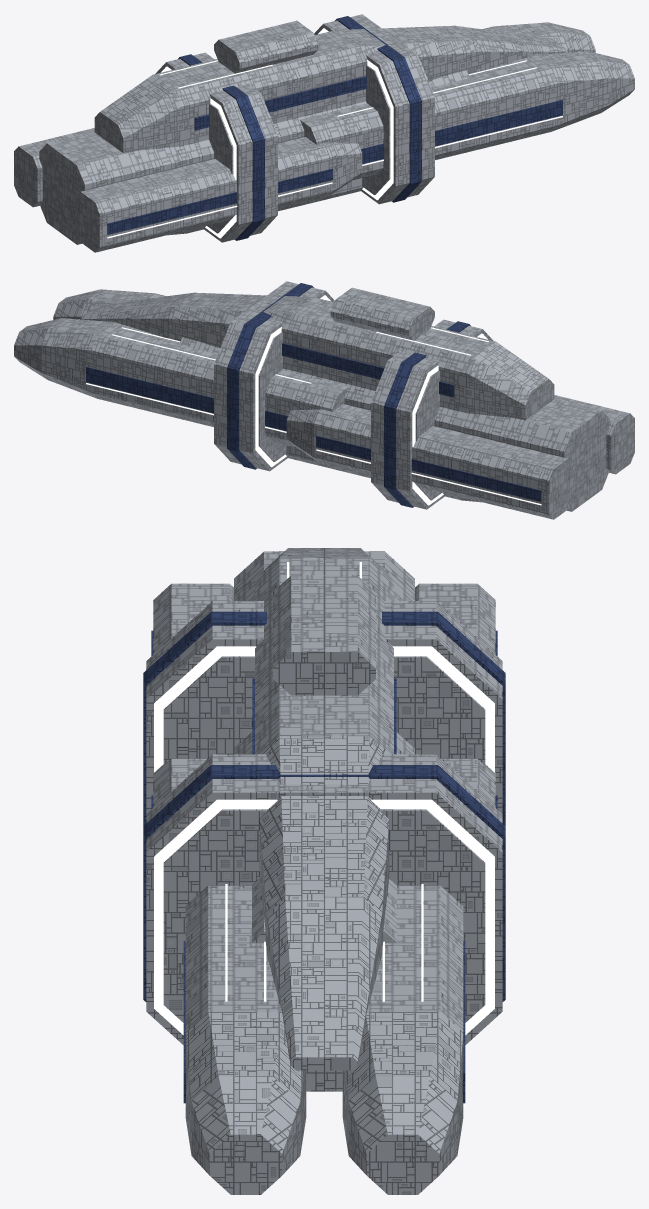
The model's file is lumen_lod2.glb.
3 views of the same model, one above another, from view 1: azimuth 30°, elevation 25°; view 2: azimuth 150°, elevation 25°; view 3: azimuth 270°, elevation 25° (orthographic). The views are drawn at different scales.
Parts seen in each view (by area): view 1: lumen_lod2_body, lumen_lod2_glow; view 2: lumen_lod2_body, lumen_lod2_glow; view 3: lumen_lod2_body, lumen_lod2_glow.
Boxes of the visible parts, <box> form: lumen_lod2_body: <box>14,14,634,252</box>; lumen_lod2_glow: <box>107,28,562,238</box>; lumen_lod2_body: <box>14,281,634,519</box>; lumen_lod2_glow: <box>86,295,541,505</box>; lumen_lod2_body: <box>143,548,505,1194</box>; lumen_lod2_glow: <box>154,562,494,1107</box>.
Bounding box in the file's own units: 21 × 6.2 × 6.
2 materials, 1 textured.
